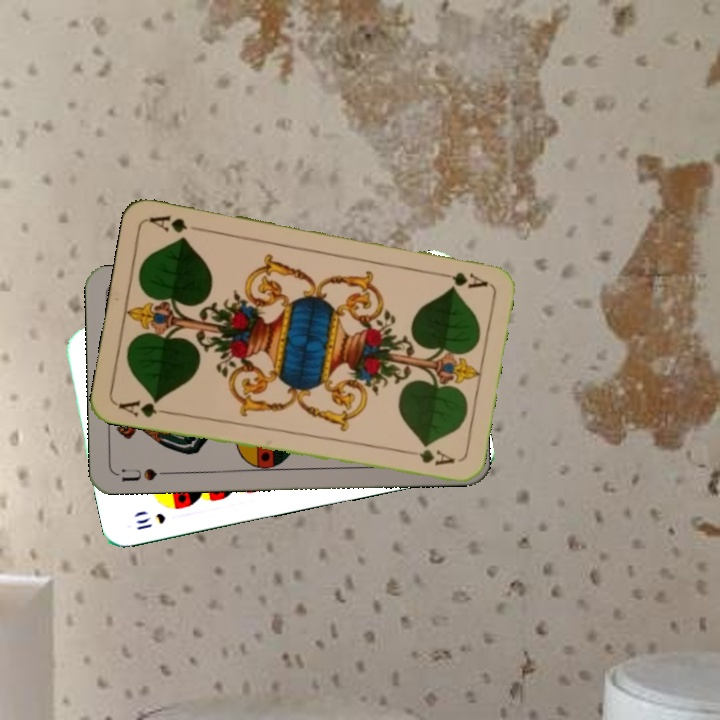GA: (114, 395, 173, 420), (432, 268, 491, 291)
S10: (132, 509, 168, 533)
SU: (117, 464, 173, 484)
